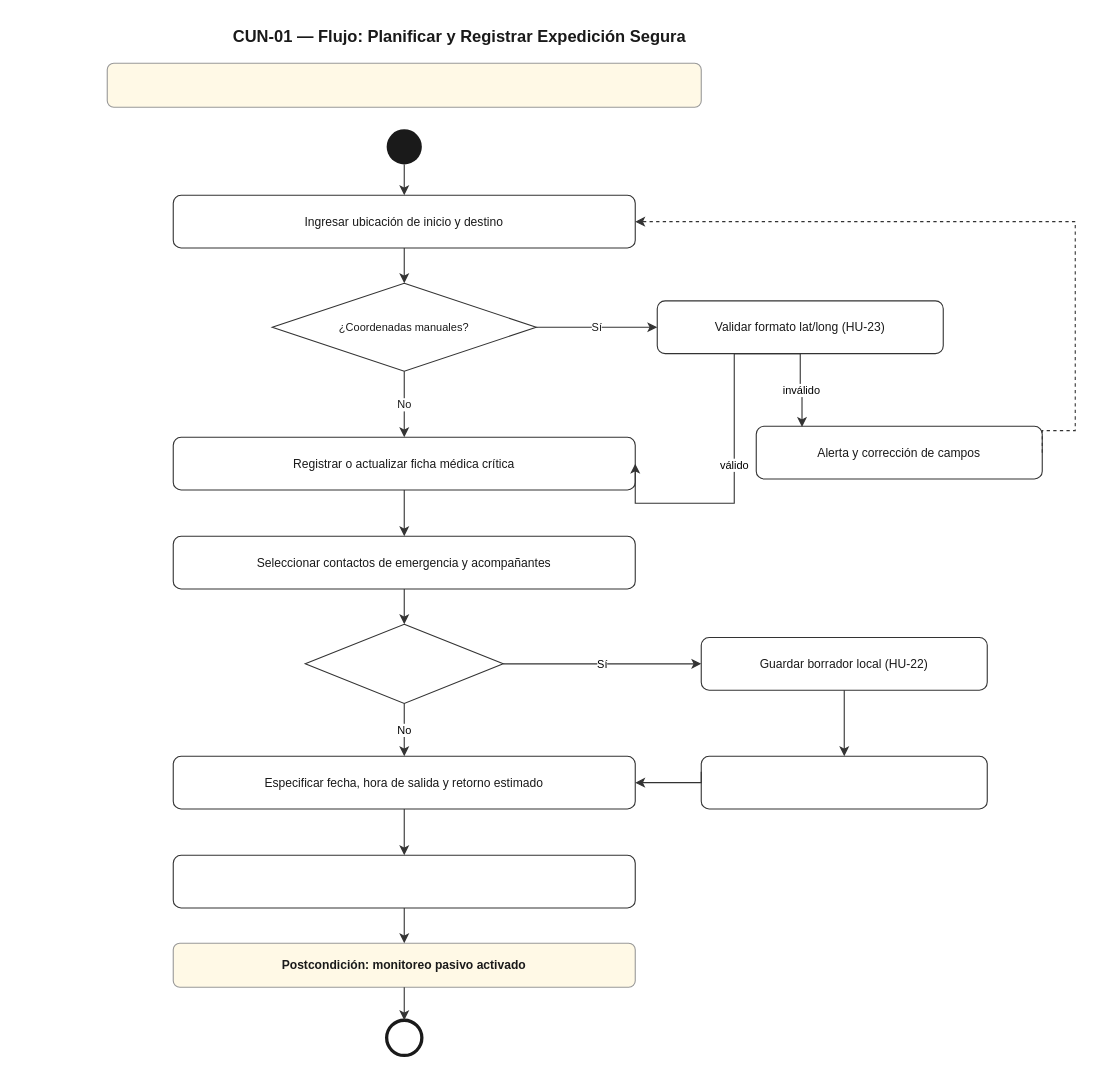
The diagram is 1103 pixels wide and 1076 high, and some of its shapes have lost their labels. Here are the shapes that lost their labels. From the top down, the centre of each, then its label:
pixel 403 84: Precondición: senderista registrado + consentimiento Ley N° 29733
pixel 403 663: ¿Sin señal?
pixel 843 782: Sincronizar al recuperar internet
pixel 403 881: Almacenar plan (programado / en curso) — cifrado RC-05
